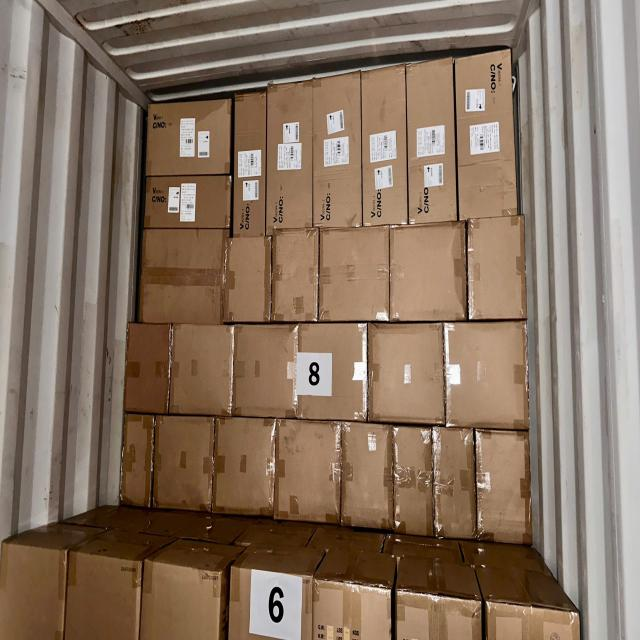Carton: (455, 53, 519, 217), (444, 325, 530, 431), (406, 60, 458, 221), (142, 225, 224, 325), (312, 77, 363, 231), (370, 322, 444, 427), (392, 225, 468, 322), (362, 69, 408, 225), (276, 418, 342, 526), (299, 322, 369, 422), (474, 429, 533, 545), (320, 229, 390, 324), (268, 84, 312, 229), (342, 419, 396, 537), (468, 218, 529, 319), (215, 418, 274, 518), (172, 323, 234, 418), (236, 324, 298, 419), (156, 412, 212, 510), (147, 104, 229, 170), (435, 426, 477, 545), (234, 94, 266, 237), (394, 425, 434, 537), (145, 176, 231, 228), (271, 232, 319, 322), (126, 323, 169, 414), (227, 235, 270, 323), (123, 412, 151, 506)
